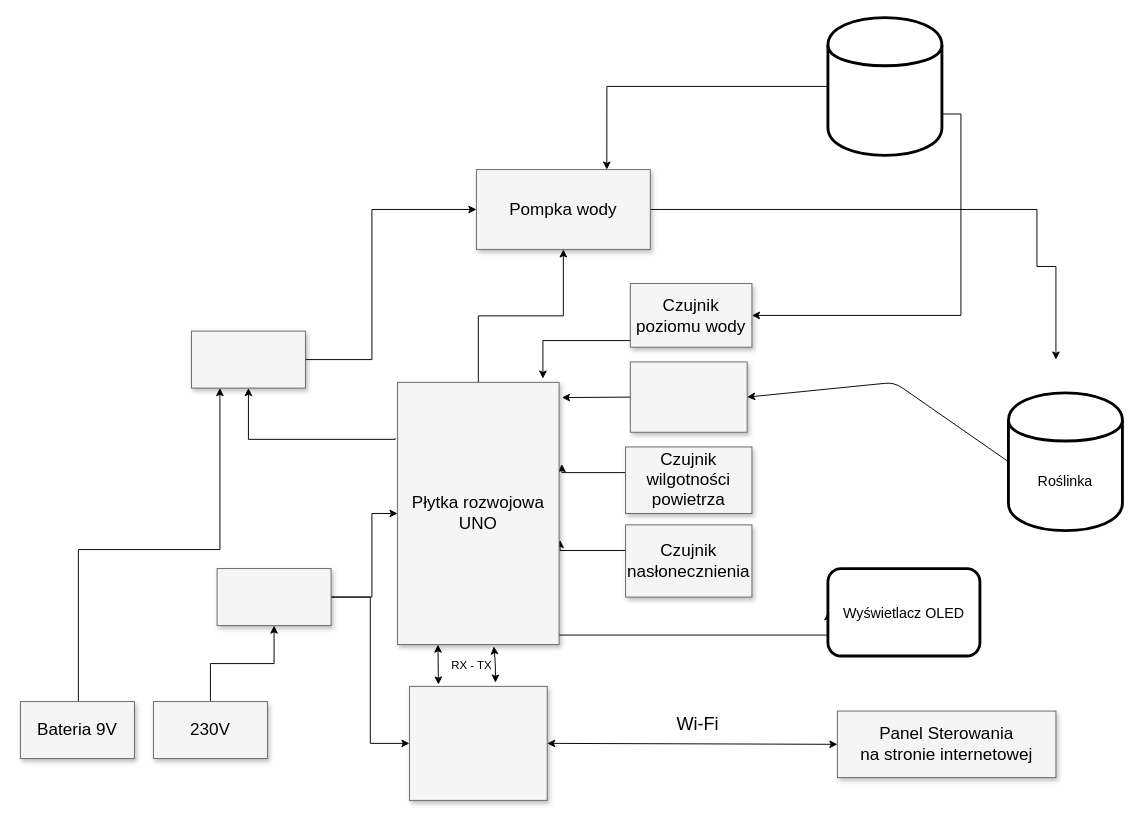
This 1140x824 diagram has some shape labels left out. The shapes that lost their labels are listed below. From the top down, each one's centre as x and y in pixels, then its label:
the point at 884,86: Zbiornik wody
the point at 249,360: Przekaźnik
the point at 689,398: Czujnik wilgotnosci gleby
the point at 274,598: Adapter 5V
the point at 479,744: ESP8266
